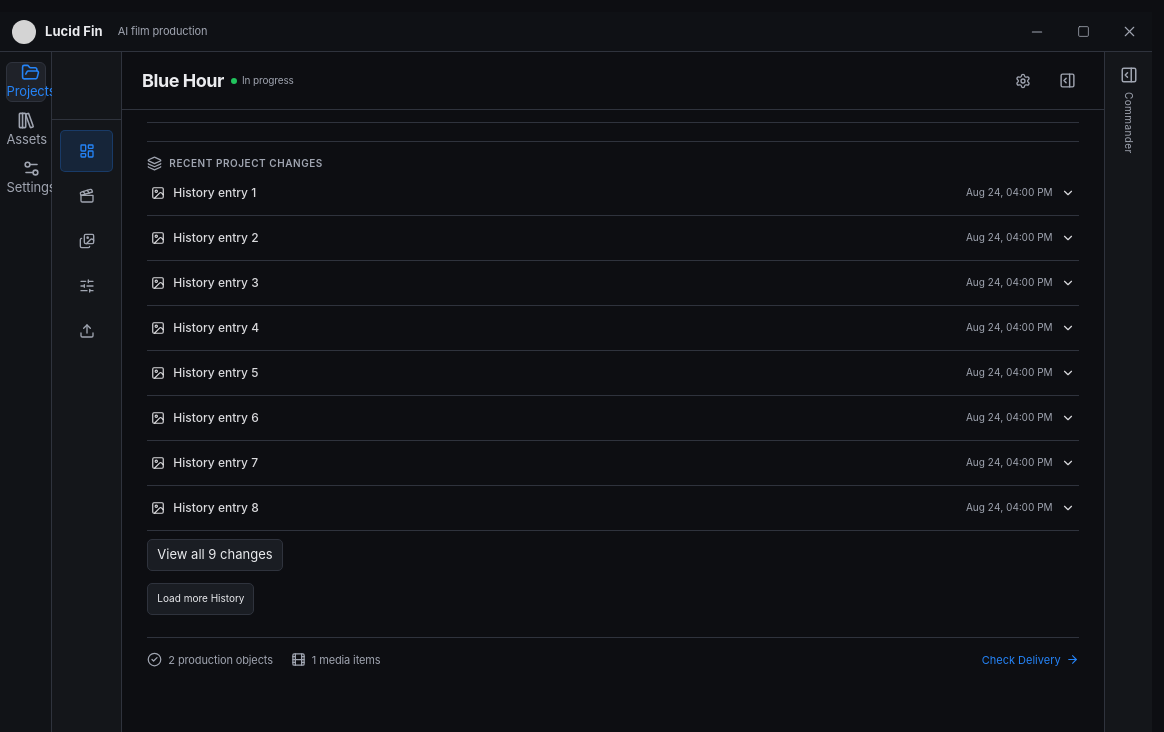
Test case: Project workspaces › reveals every loaded Overview history item and pages History without replacing existing evidence
(page scrolled)
Check: the text "History entry 1" is shown, box [173,184,256,202]
Check: the text "History entry 9" is not shown
Step 1. Click the button "View all 9 changes" → click(215, 554), box [147,538,283,570]
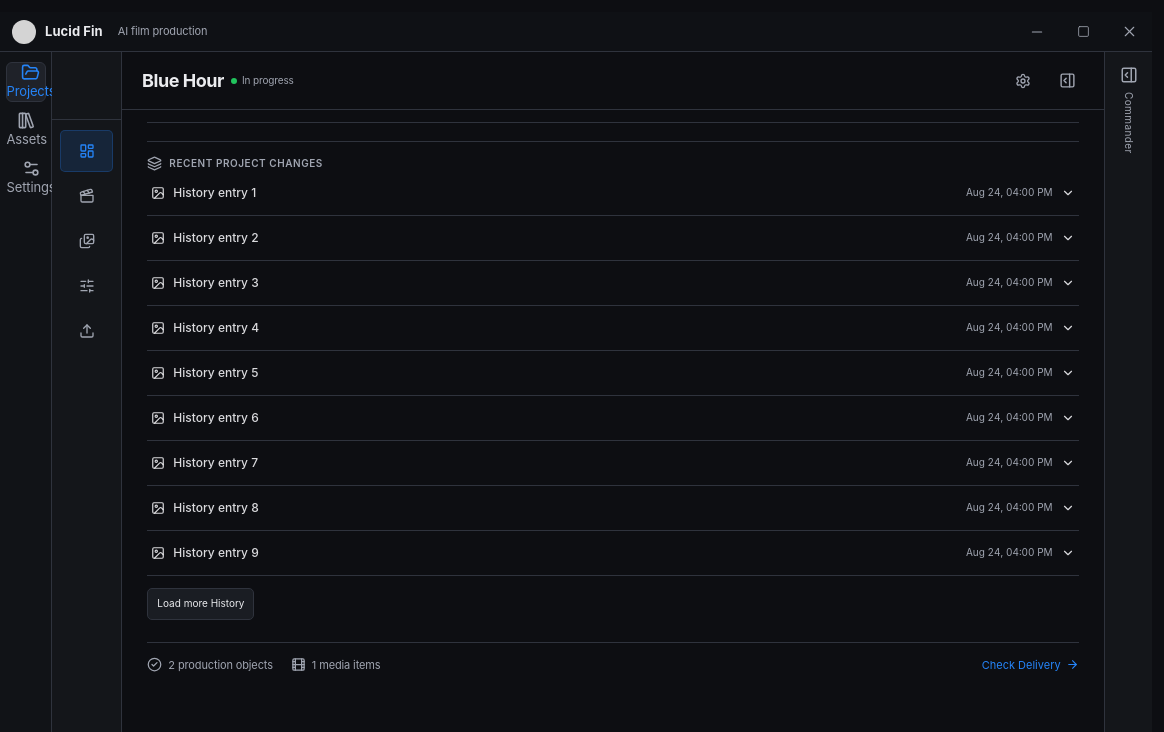
Check: the text "History entry 9" is shown, box [173,544,259,562]
Step 2. Click the button "Load more History" → click(201, 604), box [147,588,254,620]
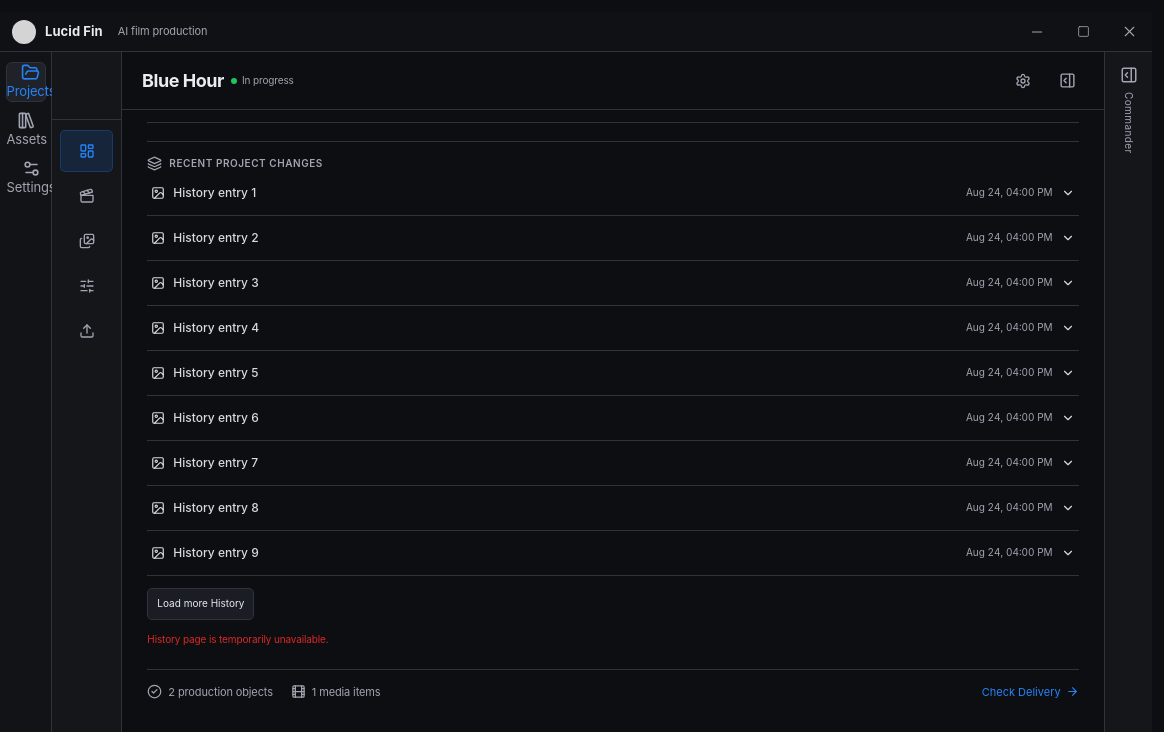
Check: the message reads "History page is temporarily unavailable.", box [147,632,328,644]
Step 3. Click the button "Load more History" → click(201, 604), box [147,588,254,620]
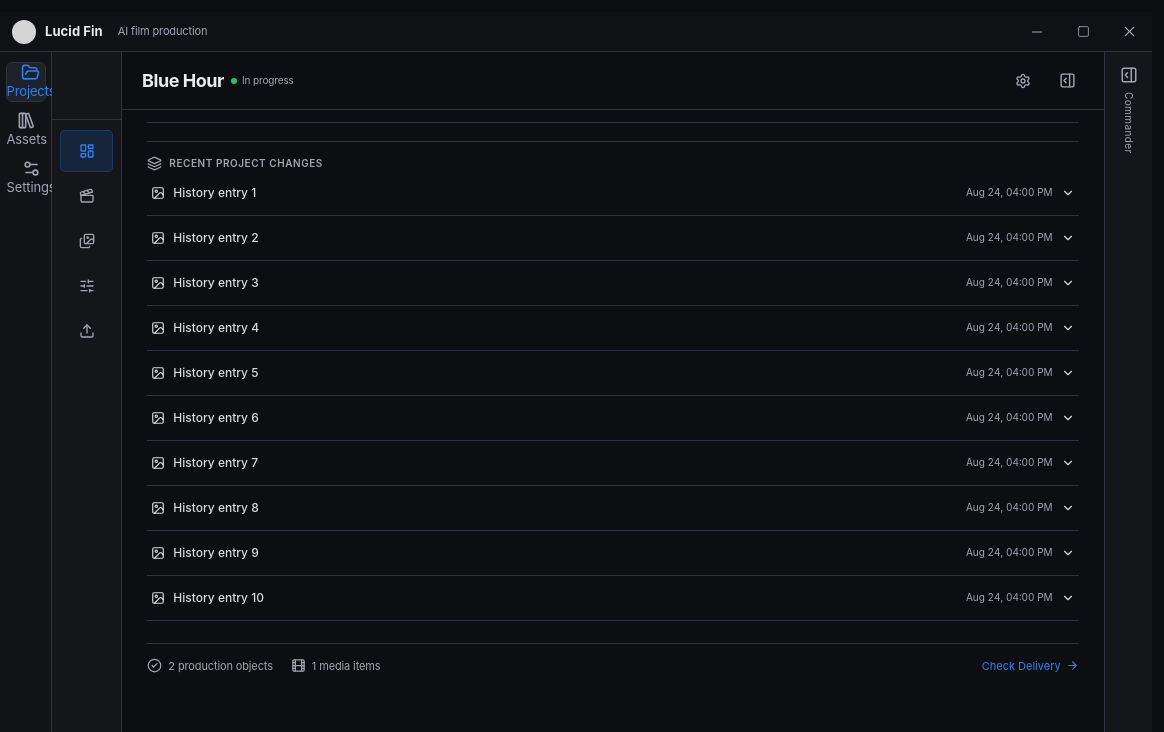
Check: the text "History entry 1" is shown once, box [173,184,256,202]
Check: the text "History entry 10" is shown, box [173,588,264,606]
Check: the button "Load more History" is gone
